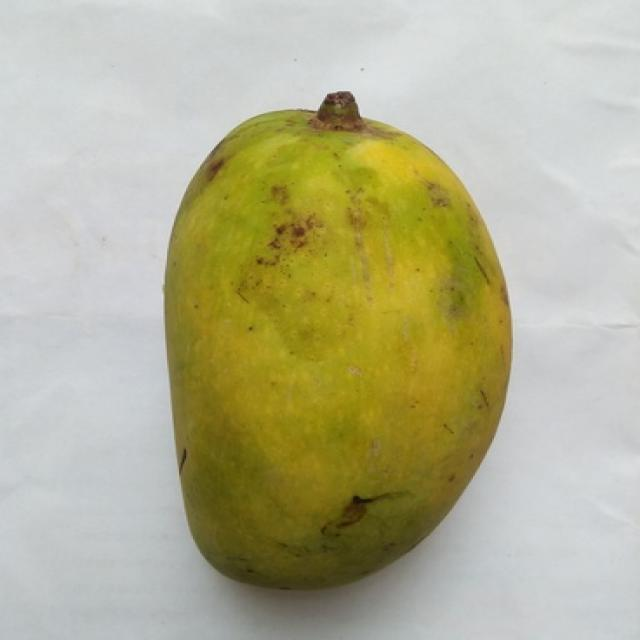Mango: (167, 93, 510, 587)
